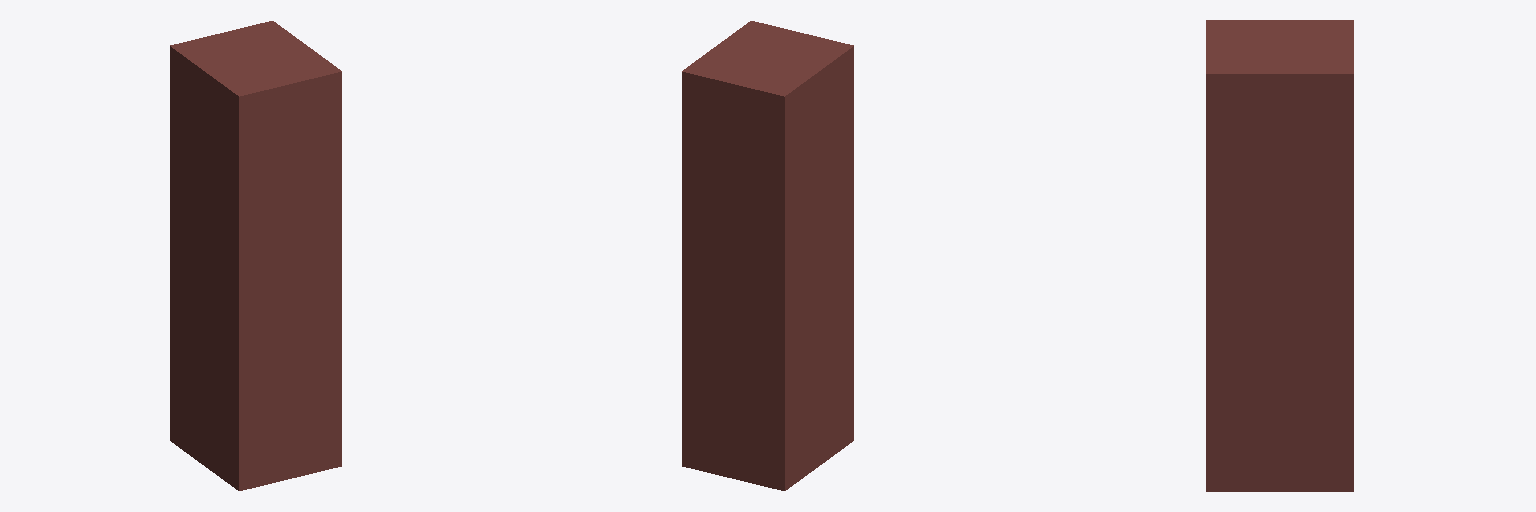
The robot description file, URDF, robot "table":
<robot name="table">
  <link name="base_link">
    <visual>
      <origin xyz="0 0 0.5475" />
      <geometry>
        <box size="0.30 0.35 1.095"/>
      </geometry>
      <material name="red">
        <color rgba="0.52 0.31 0.29 1"/>
      </material>
    </visual>
    <collision>
      <origin xyz="0 0 0.5475" />
      <geometry>
        <box size="0.30 0.35 1.095"/>
      </geometry>
    </collision>
    <inertial>
      <mass value="2.2"/>
      <origin xyz="0 0 -0.024" rpy="0 0 0"/>
      <inertia ixx="0.1"  ixy="0"  ixz="0" iyy="0.1" iyz="0" izz="0.1" />
    </inertial>
  </link>
  <gazebo>
    <static>true</static>
  </gazebo>
</robot>

--- Facts derived from the render (not from the file) ---
The picture shows the robot from 3 angles, left to right: view 1: azimuth 30°, elevation 25°; view 2: azimuth 150°, elevation 25°; view 3: azimuth 270°, elevation 25°; orthographic projection.
Model table with 1 links and 0 joints (none), rooted at base_link, posed every joint at zero.
Visible links, largest first — view 1: base_link; view 2: base_link; view 3: base_link.
Boxes of the visible links, x1,y1,x2,y2 form: base_link: [170, 21, 341, 490]; base_link: [682, 21, 853, 490]; base_link: [1206, 20, 1353, 491].
Bounding box of the posed robot: 0.3 × 0.35 × 1.09 m (x, y, z).
Geometry: primitives only (box / cylinder / sphere), no mesh files.
